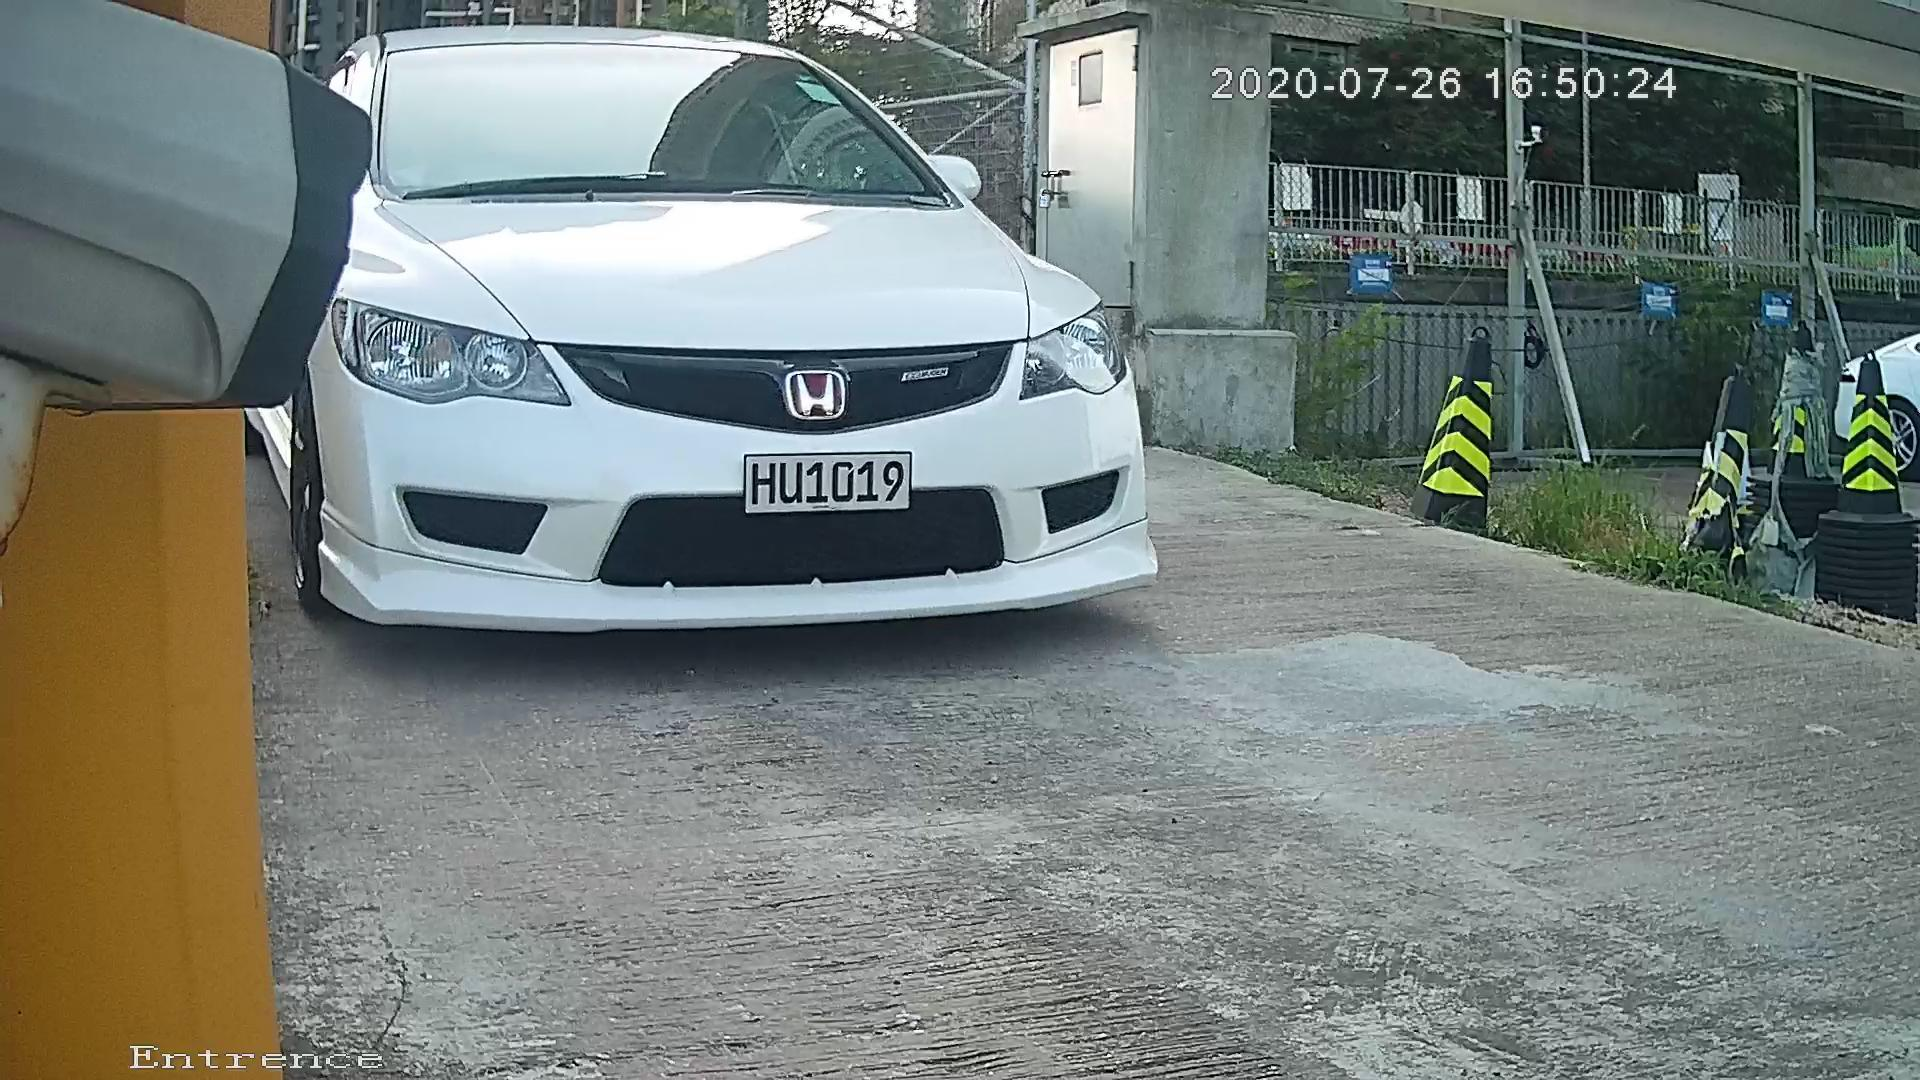privatecar: (189, 15, 1398, 671)
